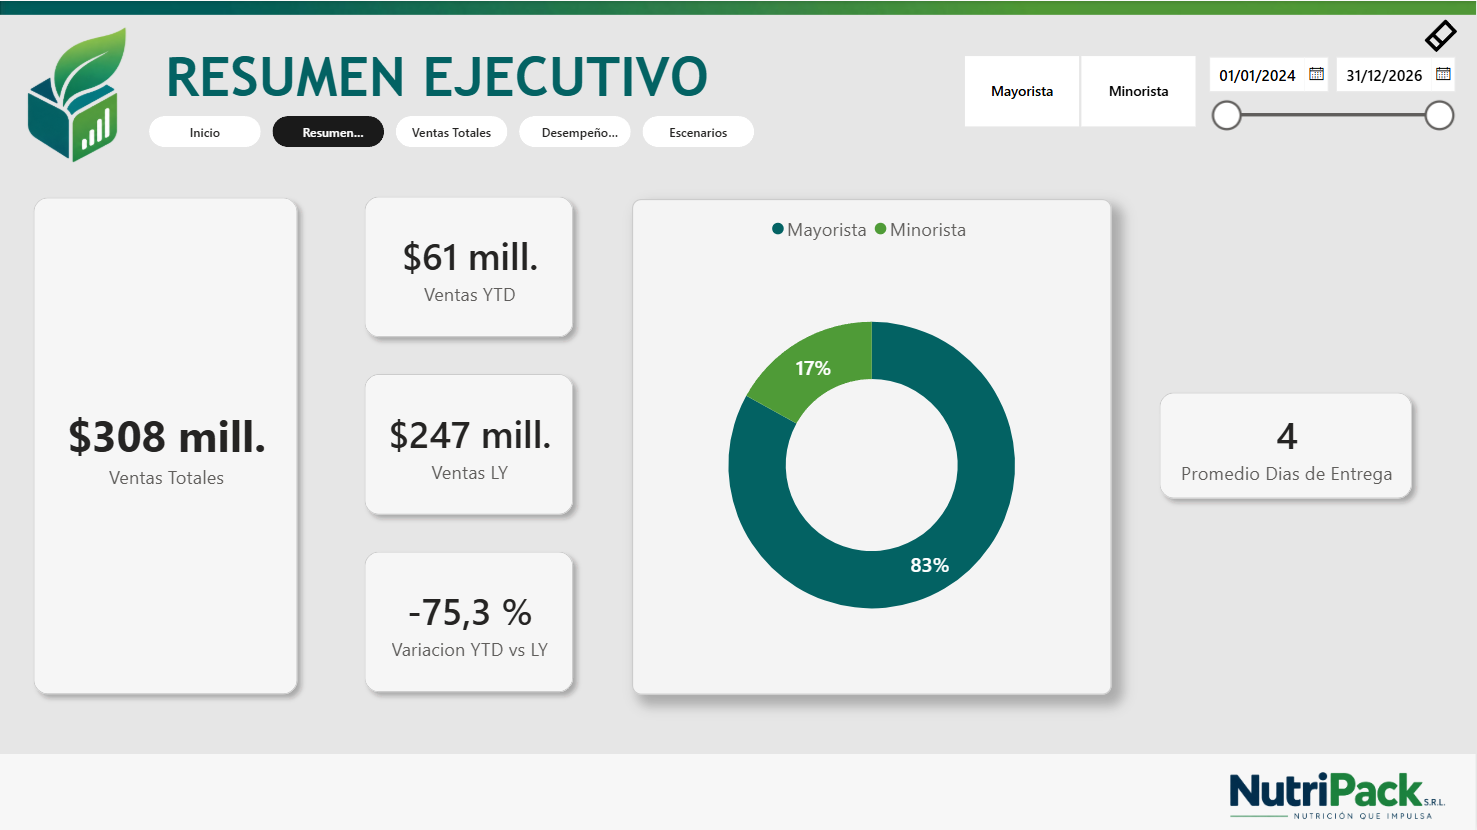

This screenshot's page, from the dashboard's own definition file:
{"tool":"powerbi","page":{"name":"Resumen ejecutivo","canvas":[1280,720],"ordinal":1},"visuals":[{"type":"shape","box":[0,653.6,1280,66.4],"z":0},{"type":"cardVisual","title":"Tarjeta Ventas","fields":{"Data":["Ventas.(M) VentasYTD","Ventas.(M) VentasLY","Ventas.(M) % Variacion YTD vs LY"]},"box":[287.4,140.7,239.3,489.4],"z":1000},{"type":"cardVisual","title":"Ventas totales","fields":{"Data":["Ventas.(M) VentasTotales"]},"box":[0,141.7,287.4,489.4],"z":2000},{"type":"donutChart","title":"Grafico Anillos","fields":{"Category":["Cliente.Segmento"],"Y":["Ventas.(M) VentasTotales"]},"box":[548.3,172.1,415.9,429.6],"z":3000},{"type":"cardVisual","title":"Promedio dias","fields":{"Data":["Ventas.(M) Promedio Dias de Entrega"]},"box":[976.9,310.4,277.6,150.1],"z":4000},{"type":"slicer","fields":{"Values":["Calendario.Date"]},"box":[1035.3,38,234.1,91],"z":5000},{"type":"slicer","fields":{"Values":["Cliente.Segmento"]},"box":[811.2,41.2,250.1,74.5],"z":6000},{"type":"pageNavigator","box":[129,99.8,529.1,27.4],"z":7000},{"type":"textbox","box":[132.7,32.1,492.7,67.7],"z":8000},{"type":"image","box":[15,20.3,94.5,123.7],"z":9000},{"type":"image","box":[1067,664.7,187.3,50],"z":10000},{"type":"image","box":[0,0,1280.9,12],"z":11000},{"type":"actionButton","box":[1231.8,11.8,44.5,36.4],"z":12000}]}

Visuals, with their boxes in screenshot pixels (x1, y1, x2, y2), scaled from the page's 1280x720 canvas onto the 1477x830 screenshot:
shape: 0,753,1476,829
"Tarjeta Ventas" cardVisual: 332,162,608,726
"Ventas totales" cardVisual: 0,163,332,728
"Grafico Anillos" donutChart: 633,198,1113,694
"Promedio dias" cardVisual: 1127,358,1448,531
slicer - Calendario.Date: 1195,44,1465,149
slicer - Cliente.Segmento: 936,47,1225,133
pageNavigator: 149,115,759,147
textbox: 153,37,722,115
image: 17,23,126,166
image: 1231,766,1447,824
image: 0,0,1476,14
actionButton: 1421,14,1473,56
